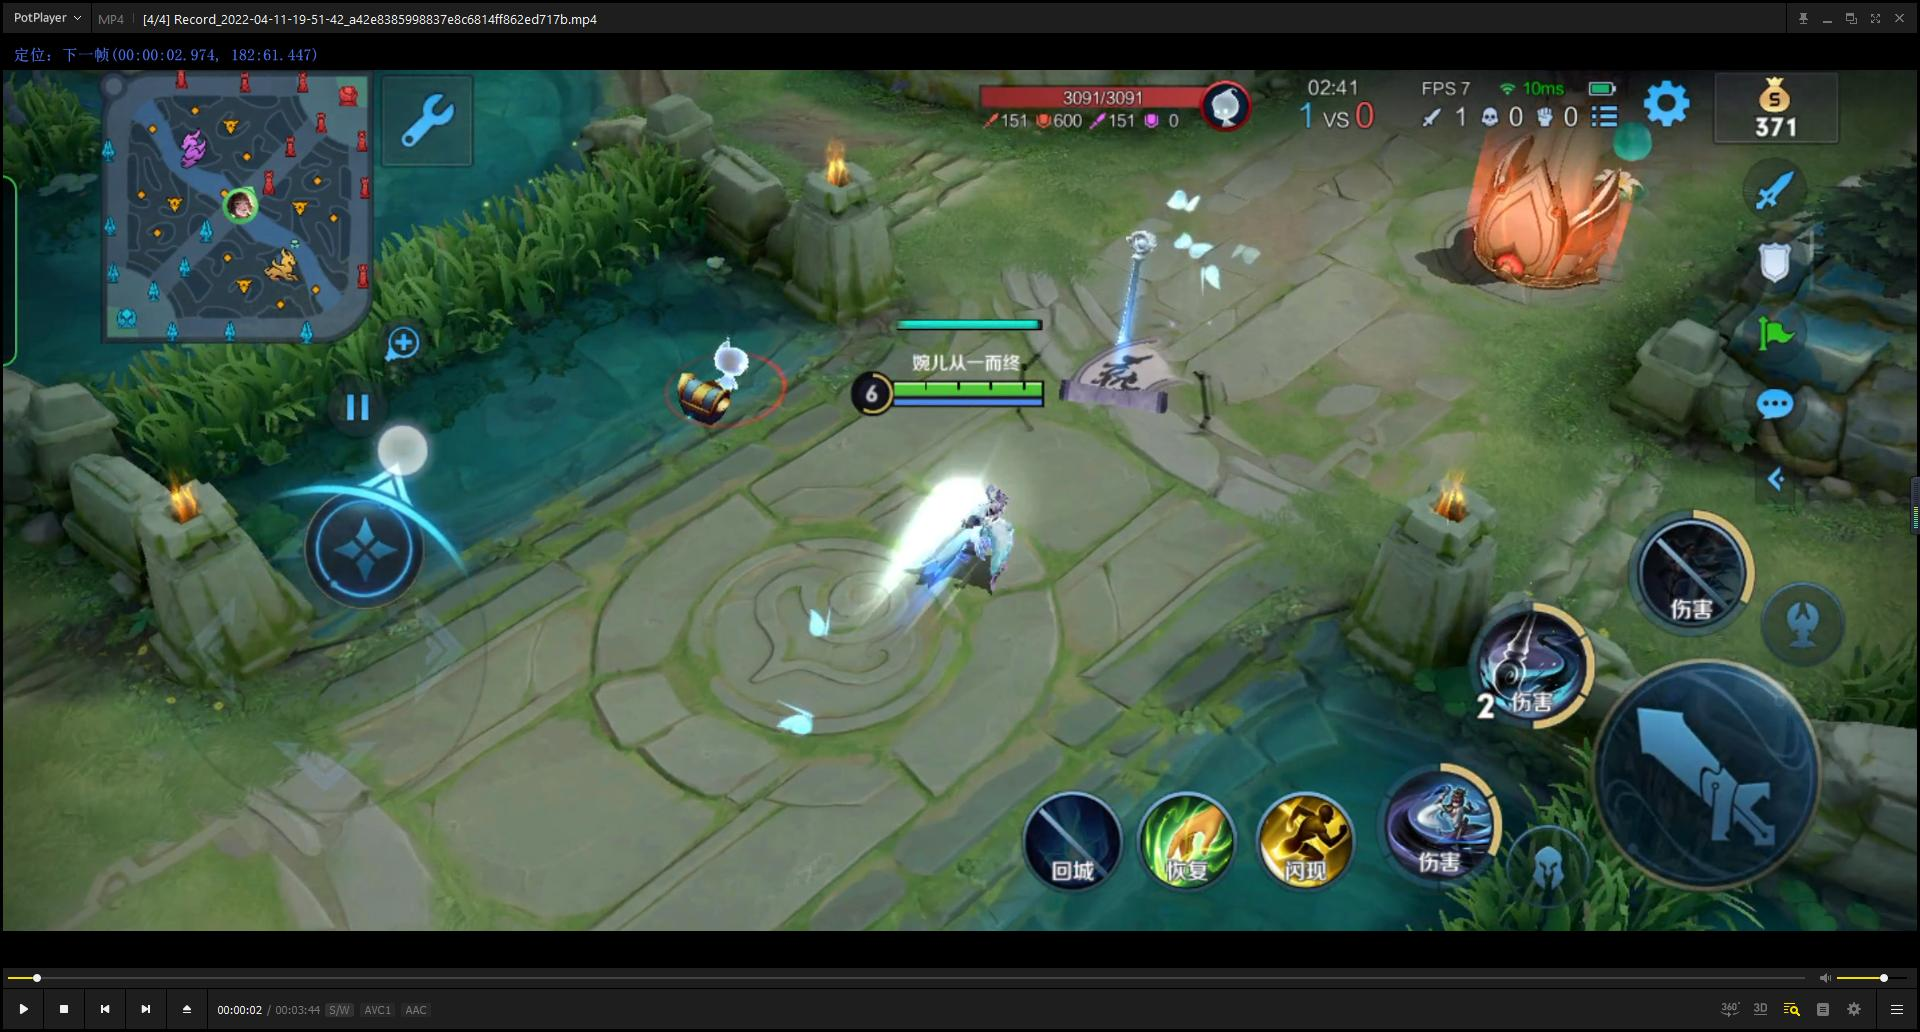Hero: (875, 472, 1051, 628)
Spirit: (651, 309, 797, 445)
Tower: (1441, 78, 1676, 308)
